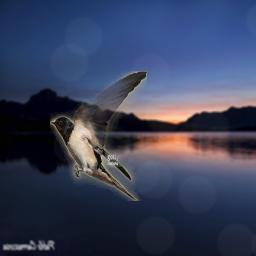Swallow: (50, 71, 147, 201)
